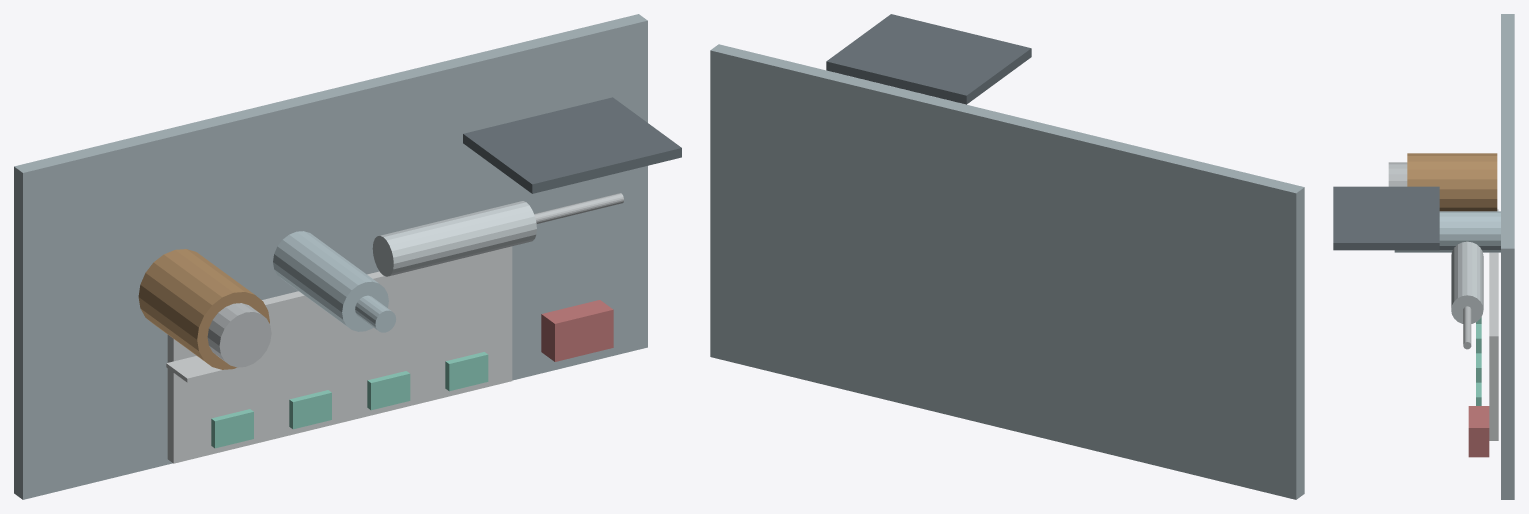
The model's file is medication-bench-high.glb.
3 renders of one model, left to right at view 1: azimuth 30°, elevation 25°; view 2: azimuth 150°, elevation 25°; view 3: azimuth 270°, elevation 25°, orthographic. The views are drawn at different scales.
Parts seen in each view (by area): view 1: workbench, tray, case_board, vial_body, training_syringe_barrel, ampoule_body, discard_box, vial_cap, check_token_3, check_token_4, check_token_1, check_token_2 (+3 smaller); view 2: workbench, case_board; view 3: case_board, workbench, vial_body, ampoule_body, training_syringe_barrel, tray, discard_box, vial_cap, training_syringe_tip.
Part boxes in pixels (x1,y1,x2,y2): workbench: (14,14,647,499); tray: (167,246,512,463); case_board: (463,97,681,193); vial_body: (138,249,269,369); training_syringe_barrel: (372,201,536,276); ampoule_body: (273,231,388,331); discard_box: (541,300,613,361); vial_cap: (207,303,271,367); check_token_3: (367,371,410,410); check_token_4: (445,352,488,391); check_token_1: (211,409,253,448); check_token_2: (289,390,331,429); workbench: (710,44,1304,499); case_board: (826,14,1031,104); case_board: (1333,186,1439,250); workbench: (1501,14,1514,499); vial_body: (1407,153,1497,211); ampoule_body: (1394,211,1500,252); training_syringe_barrel: (1451,241,1483,323); tray: (1489,209,1498,440); discard_box: (1468,406,1489,457); vial_cap: (1388,162,1407,186); training_syringe_tip: (1463,306,1471,349).
Bounding box in the file's own units: 4.8 × 2.4 × 1.57.
